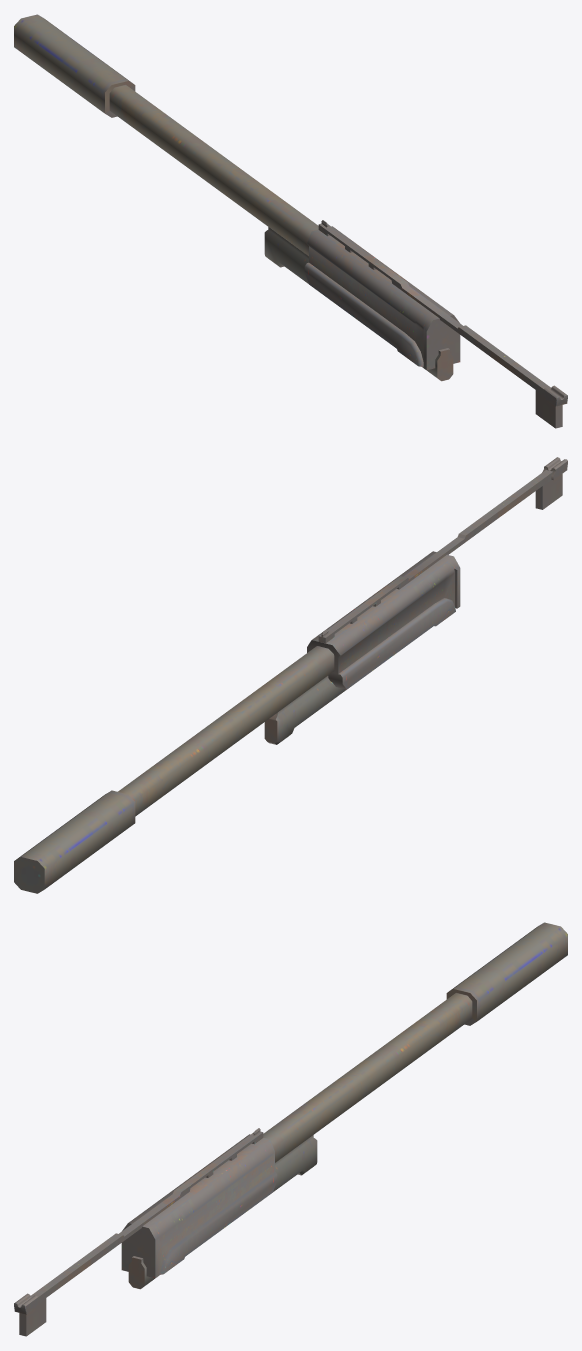
The model's file is barrel2.obj.
3 renders of one model, top to bottom at view 1: azimuth 30°, elevation 25°; view 2: azimuth 150°, elevation 25°; view 3: azimuth 330°, elevation 25°, orthographic.
Parts seen in each view (by area): view 1: barrel2; view 2: barrel2; view 3: barrel2.
Boxes of the visible parts, x1,y1,x2,y2 form: barrel2: (14,14,567,428); barrel2: (14,457,567,893); barrel2: (14,922,567,1336).
Bounding box in the file's own units: 5.1 × 9.65 × 124.
